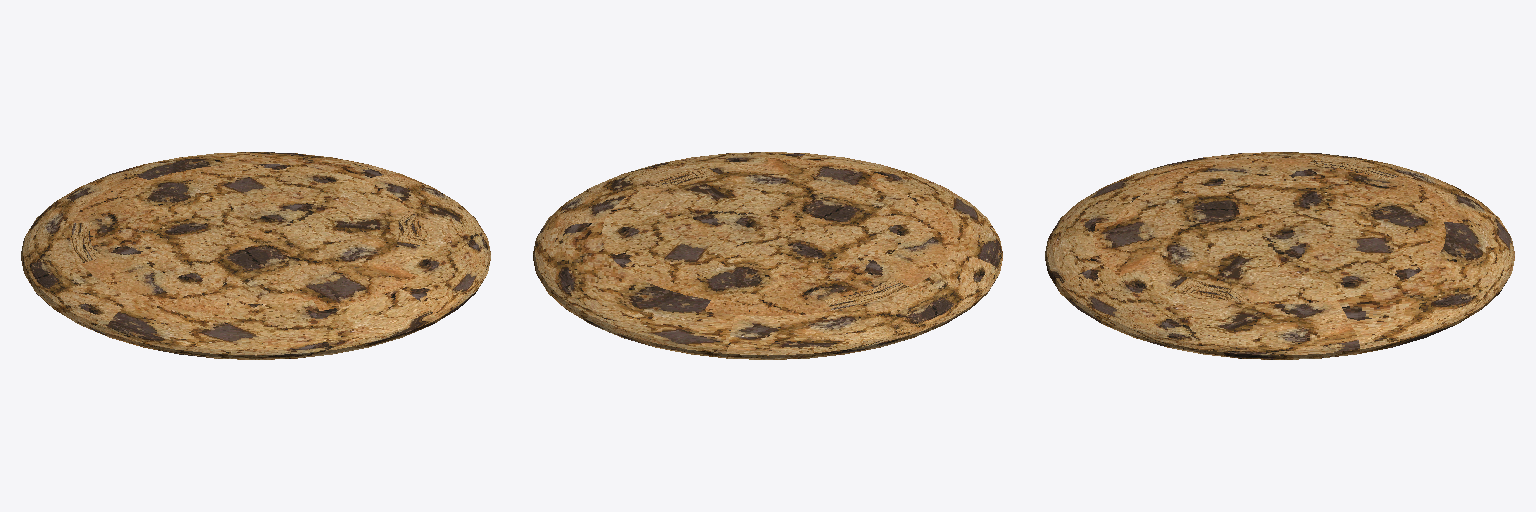
The picture shows the model from 3 angles: view 1: azimuth 30°, elevation 25°; view 2: azimuth 150°, elevation 25°; view 3: azimuth 270°, elevation 25°; orthographic projection.
Visible parts, largest first — view 1: Sphere; view 2: Sphere; view 3: Sphere.
Part boxes in pixels (bbox=[...]): Sphere: bbox=[21, 152, 490, 359]; Sphere: bbox=[533, 152, 1002, 359]; Sphere: bbox=[1045, 152, 1514, 359].
Size of the model in its own units: 2 by 0.2915 by 2.
Materials: 1 (1 with a texture image).